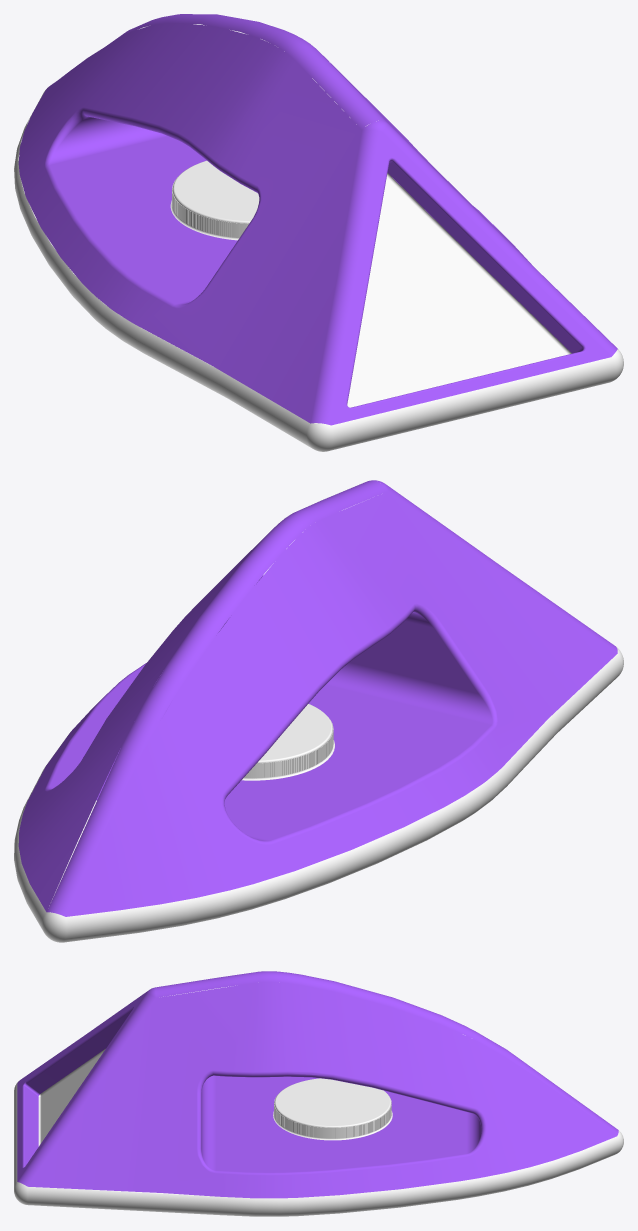
The model's file is Iron.glb.
The picture shows the model from 3 angles, top to bottom: view 1: azimuth 30°, elevation 25°; view 2: azimuth 150°, elevation 25°; view 3: azimuth 270°, elevation 25°; orthographic projection. The views are drawn at different scales.
Size of the model in its own units: 0.1629 by 0.1032 by 0.3134.
